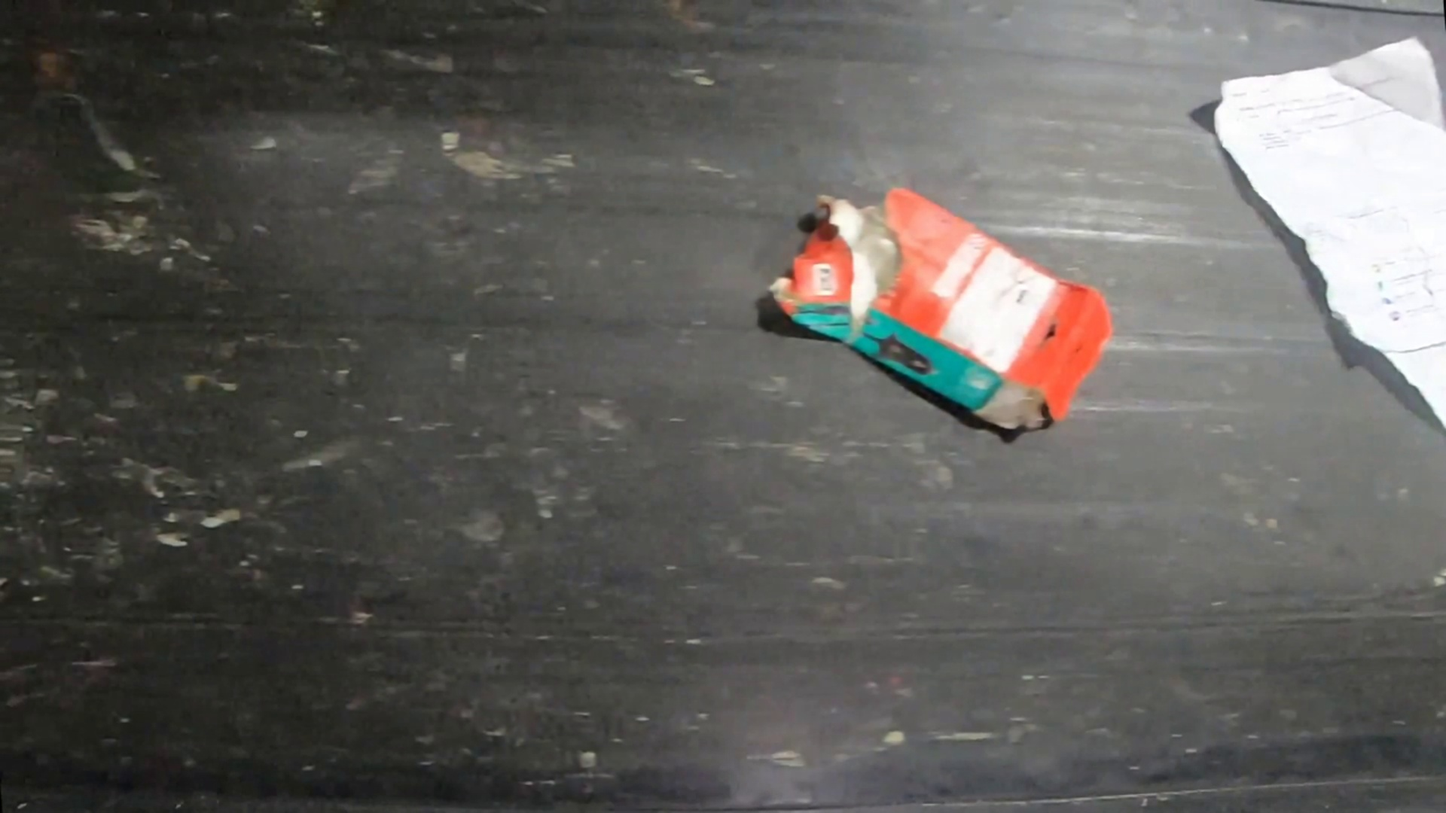cardboard: (766, 184, 1110, 429)
